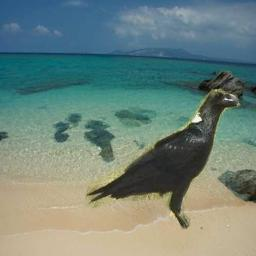Crow: (85, 89, 241, 232)
